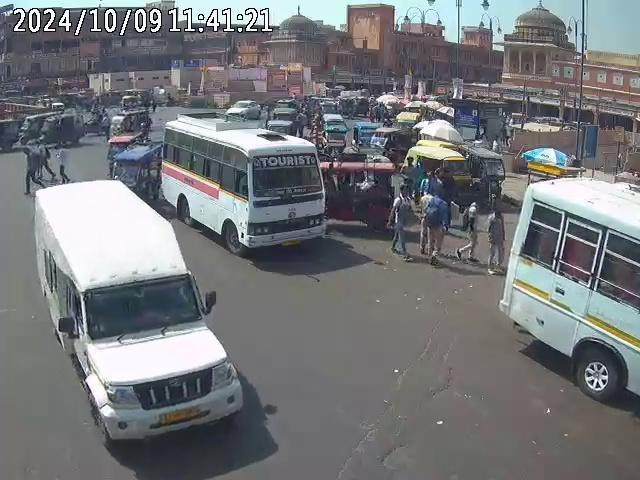auto: (327, 154, 398, 229), (404, 139, 468, 207), (110, 139, 162, 202), (18, 111, 75, 148), (316, 112, 349, 159), (108, 109, 149, 137), (0, 117, 19, 152)
bus: (499, 176, 640, 397), (158, 114, 327, 255)
car: (223, 100, 263, 120)
license_plate: (156, 405, 204, 424)
lorry: (32, 175, 245, 450)
person: (418, 185, 451, 259), (387, 181, 412, 258), (24, 139, 54, 191)
